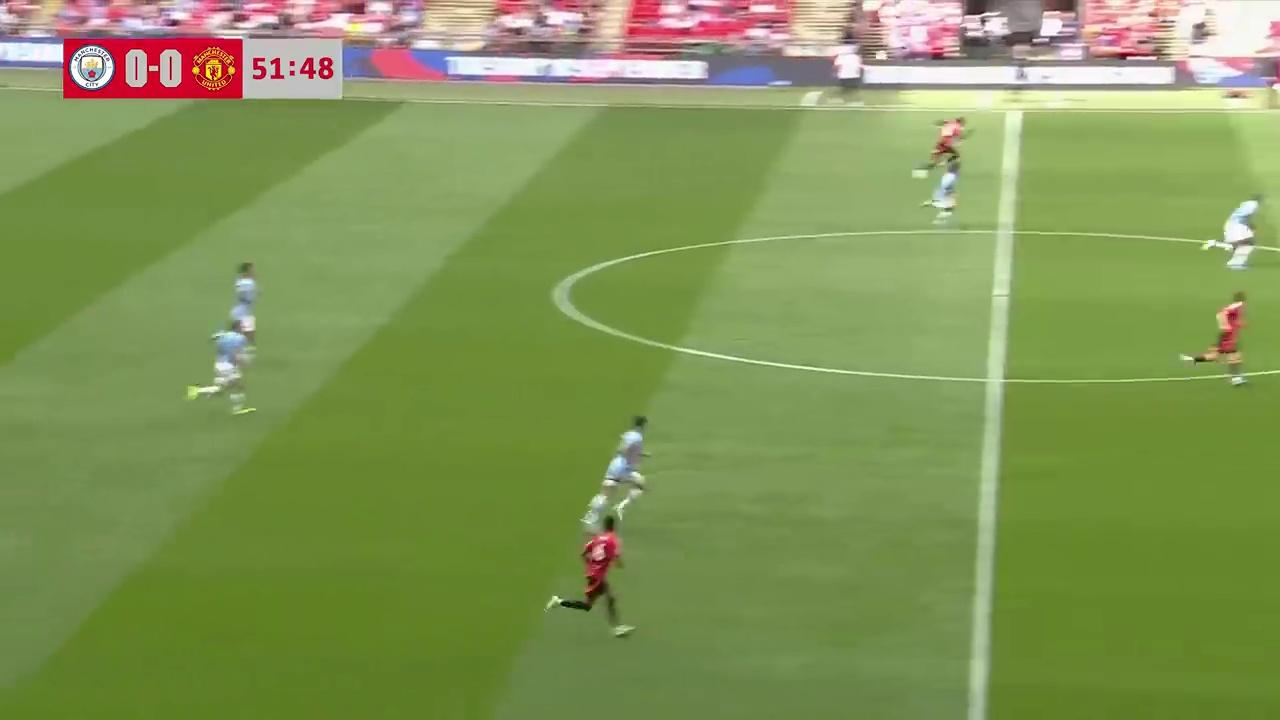player: (552, 509, 633, 635), (589, 415, 651, 519), (191, 317, 257, 414), (1191, 292, 1248, 385), (1216, 196, 1264, 270), (920, 157, 961, 221), (230, 261, 259, 348), (923, 116, 966, 169)
